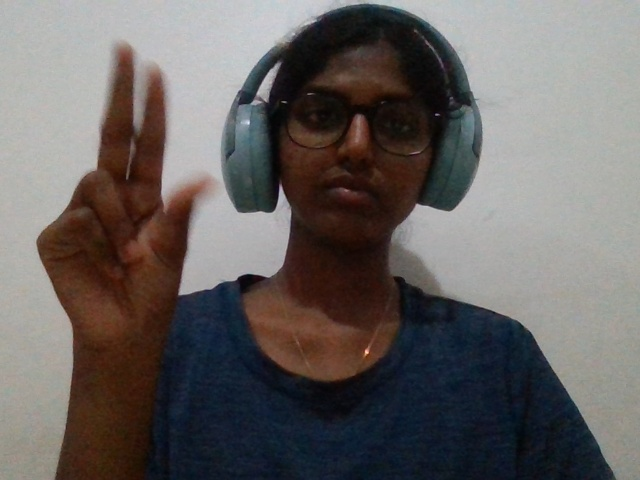No: (15, 26, 222, 380)
